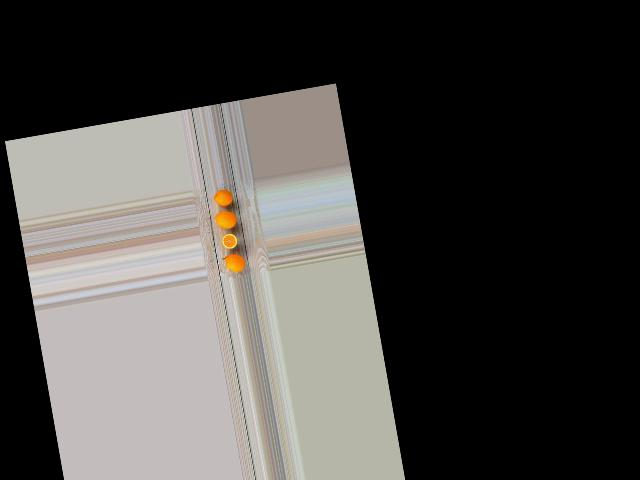lemon: (220, 252, 246, 274)
